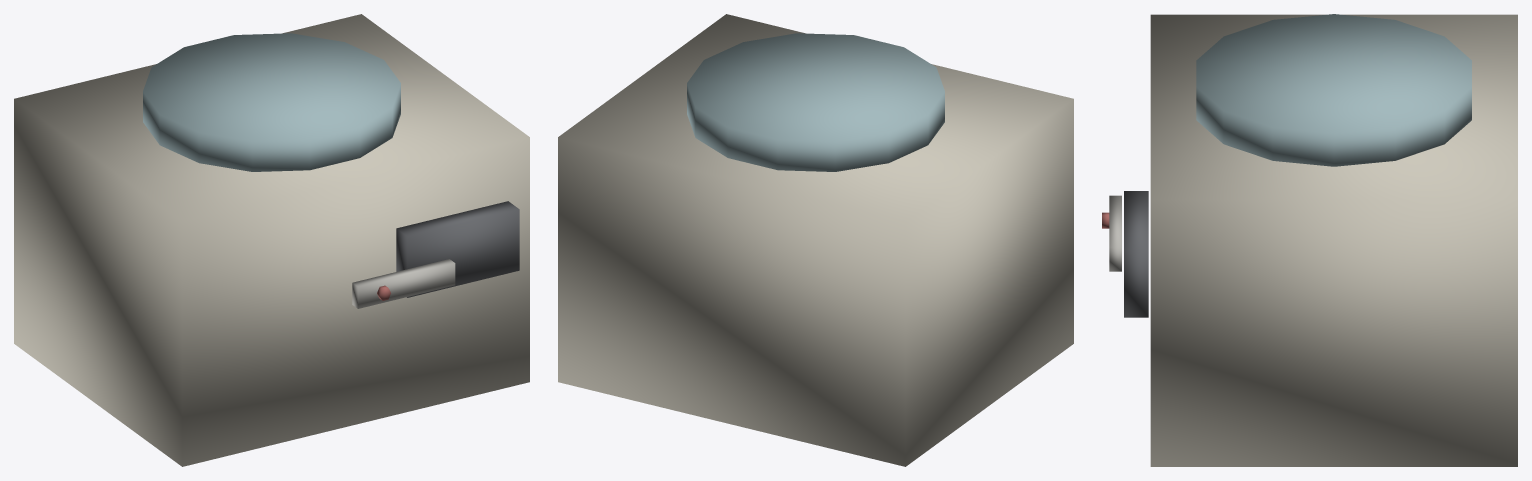
The model's file is centrifuge_bench_unit__tall.glb.
3 renders of one model, left to right at view 1: azimuth 30°, elevation 25°; view 2: azimuth 150°, elevation 25°; view 3: azimuth 270°, elevation 25°, orthographic. The views are drawn at different scales.
Visible parts, largest first — view 1: world; view 2: world; view 3: world.
Part boxes in pixels (box(x1,y1,x2,y2)): world: box(14, 14, 529, 466); world: box(558, 14, 1073, 466); world: box(1102, 14, 1517, 466).
Bounding box in the file's own units: 0.62 × 0.4698 × 0.5885.
